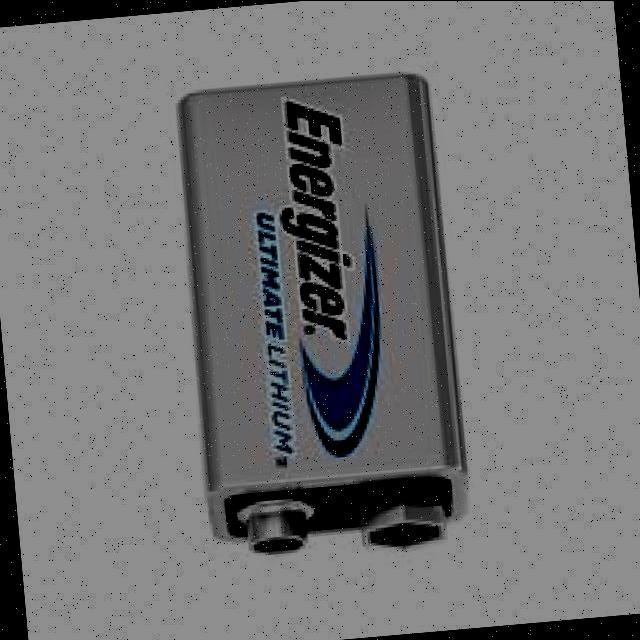9V: (175, 72, 464, 553)
